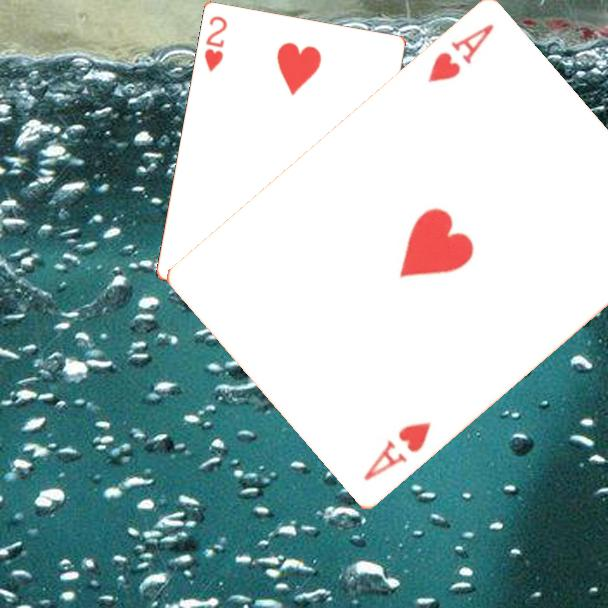h01: (360, 419, 434, 485), (423, 21, 497, 87)
h02: (201, 13, 230, 76)
